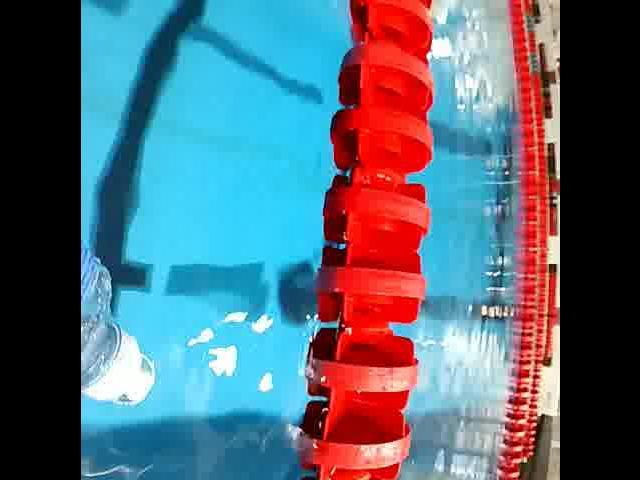Bottle: (80, 246, 161, 414)
